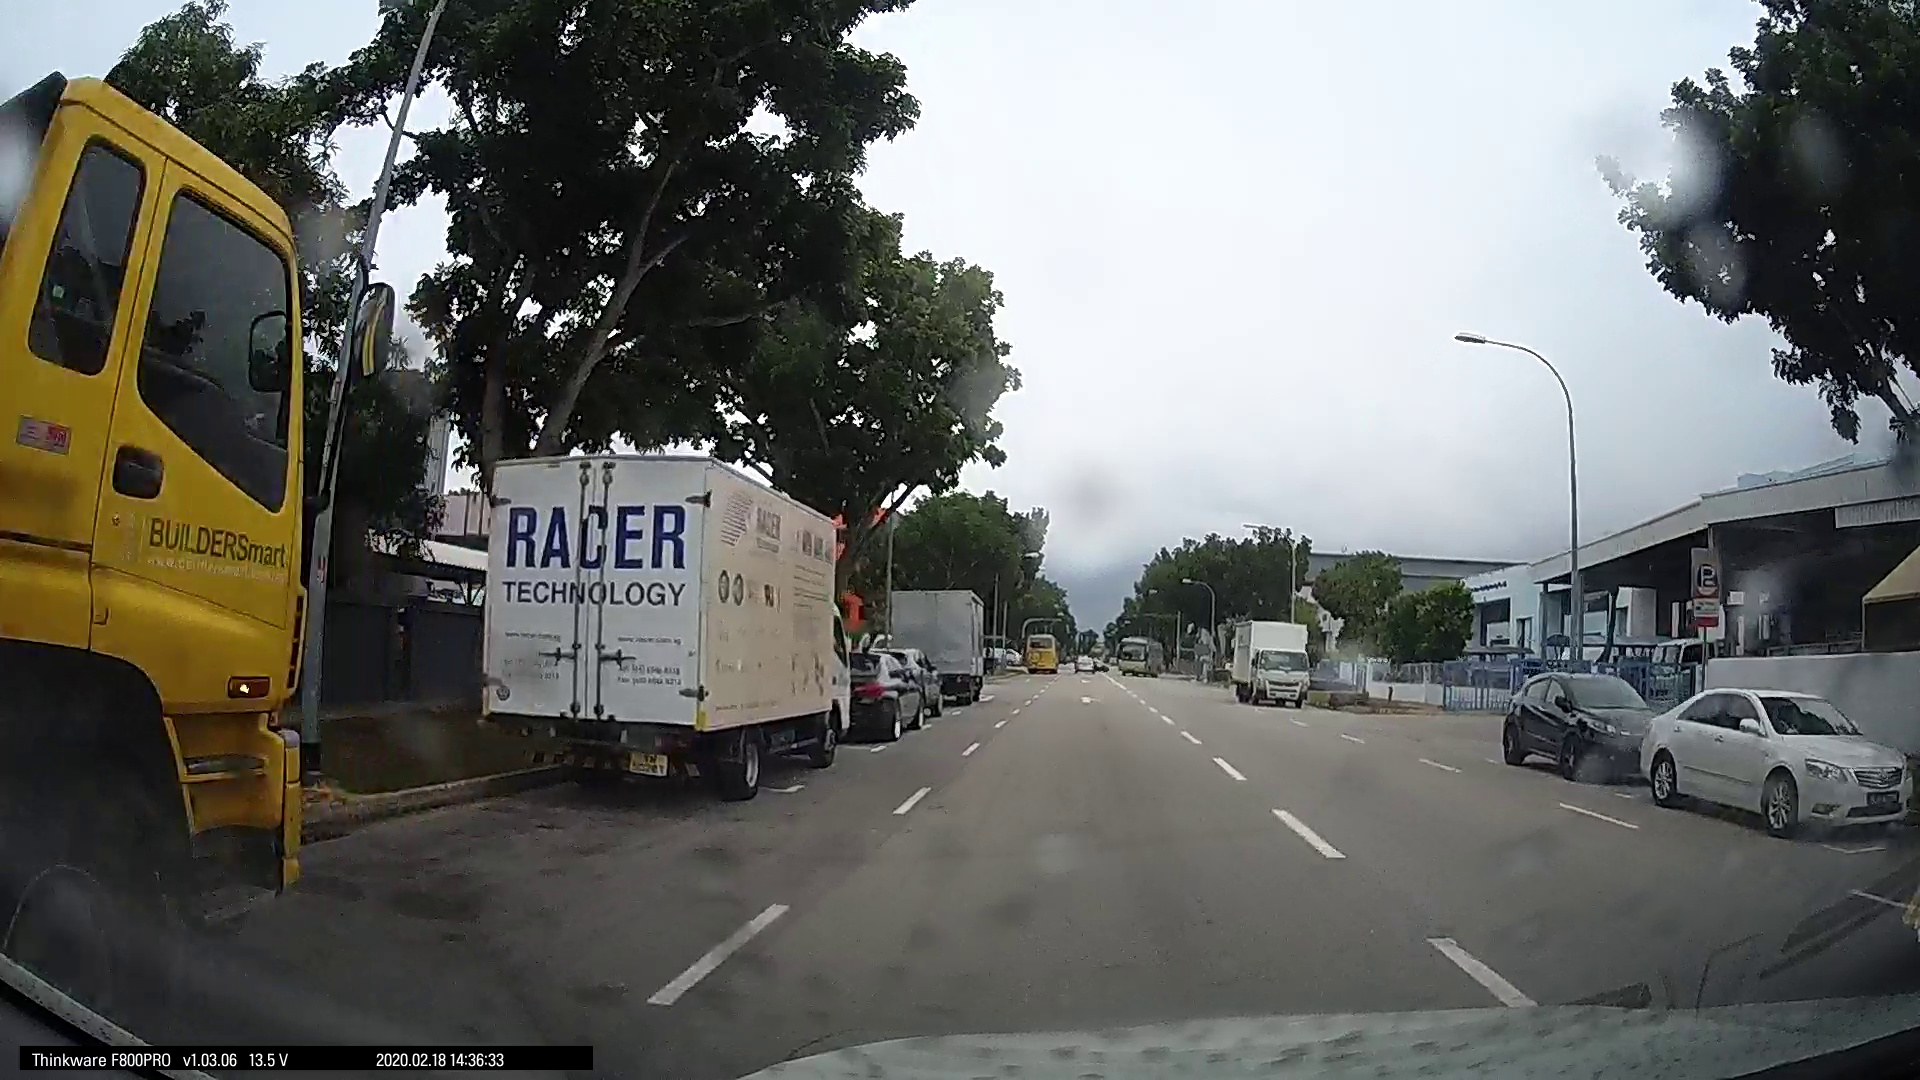Heavy Vehicle: (7, 46, 338, 998), (469, 452, 852, 803), (876, 578, 986, 709), (1225, 618, 1309, 708)
Light Vehicle: (1635, 676, 1905, 837), (1495, 661, 1658, 781), (843, 640, 923, 737), (1019, 625, 1060, 673)
